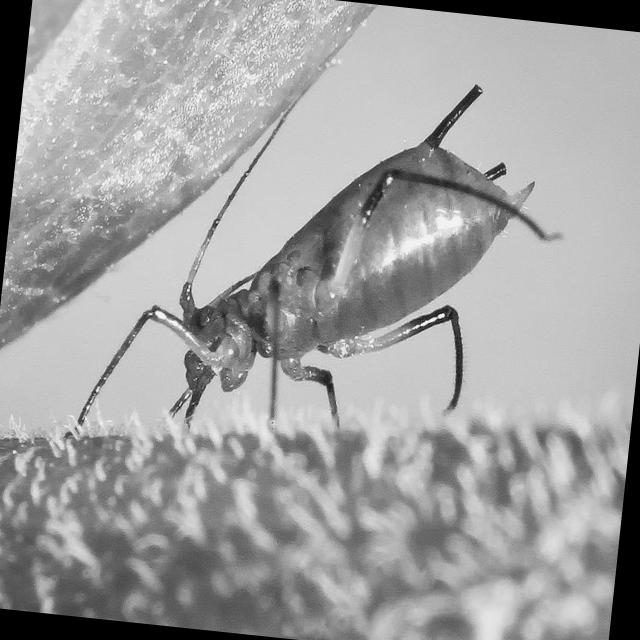Aphids: (100, 53, 570, 507)
